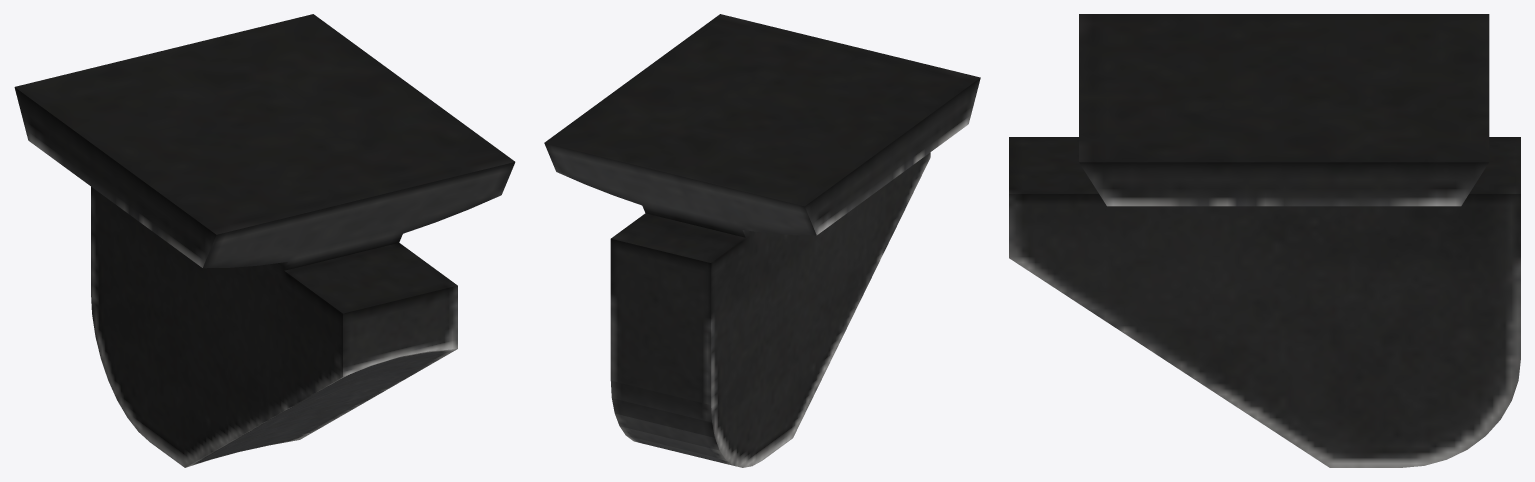
3 views of the same model, side by side, from view 1: azimuth 30°, elevation 25°; view 2: azimuth 150°, elevation 25°; view 3: azimuth 270°, elevation 25° (orthographic). The views are drawn at different scales.
Visible parts, largest first — view 1: TW_668fe5ec4315934ba10c6f96_PZ_Import; view 2: TW_668fe5ec4315934ba10c6f96_PZ_Import; view 3: TW_668fe5ec4315934ba10c6f96_PZ_Import.
Boxes of the visible parts, x1,y1,x2,y2 form: TW_668fe5ec4315934ba10c6f96_PZ_Import: (14, 14, 515, 467); TW_668fe5ec4315934ba10c6f96_PZ_Import: (544, 14, 980, 467); TW_668fe5ec4315934ba10c6f96_PZ_Import: (1009, 14, 1520, 467).
Bounding box in the file's own units: 0.00466 × 0.00681 × 0.00516.
1 material, 1 textured.
